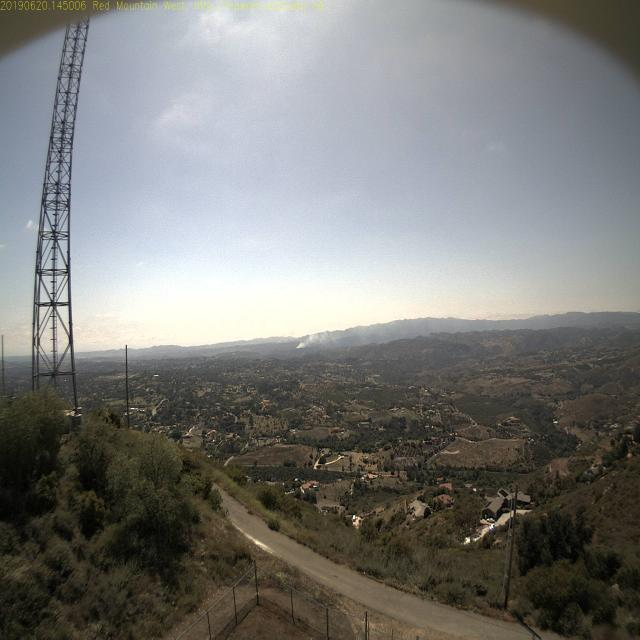smoke: (293, 334, 318, 359)
